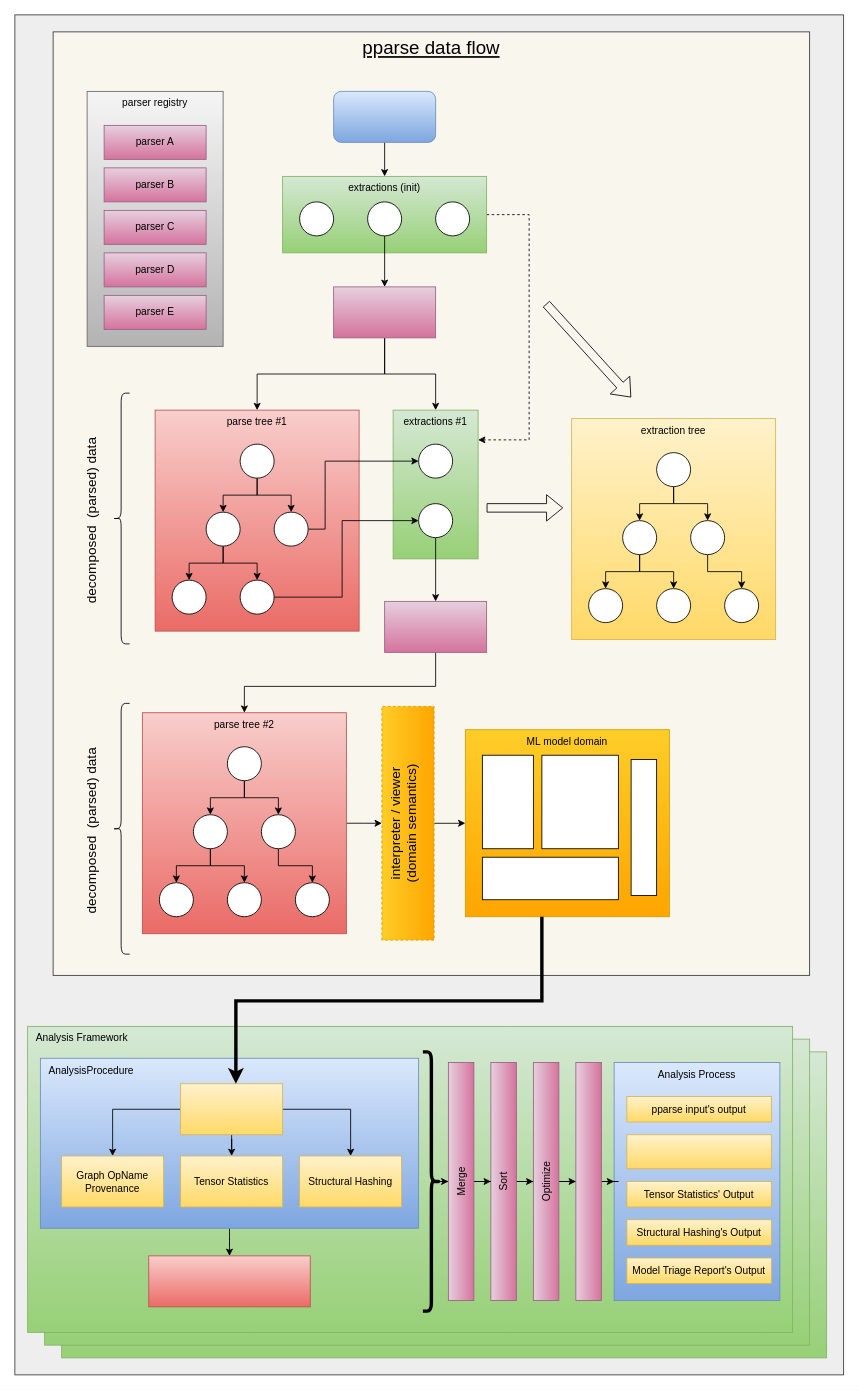
This 859x1390 diagram has some shape labels left out. Each missing label, with the centre of its shape:
Execute: point (588, 1181)
graph nodes - name - inputs - outputs - op name - attrs: point (579, 801)
Graph Opname Provenance's Output: point (698, 1151)
metadata - explicit provenance - description: point (550, 878)
Model Triage Report: point (229, 1281)
model.bin: point (384, 116)
parser #1: point (384, 312)
parser #2: point (435, 626)
pparse input (Analysis Input): point (231, 1109)
tensors - name - shape - dtype - data - attrs: point (507, 801)
training data: point (643, 827)
